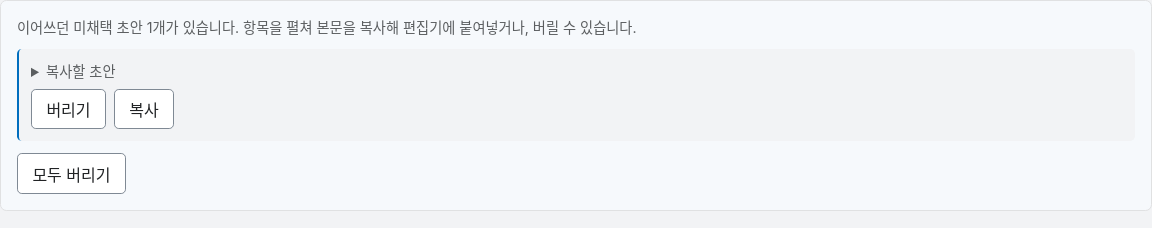
Test case: ScratchRecovery › 복사 버튼이 본문을 클립보드에 넣는다
Expected: the text "이어쓰던 미채택 초안 1개가 있습니다. 항목을 펼쳐 본문을 복사해 편집기에 붙여넣거나, 버릴 수 있습니다." is shown, [17,19,636,36]
Click the button "복사".
click(144, 109)  # box [114,89,174,129]
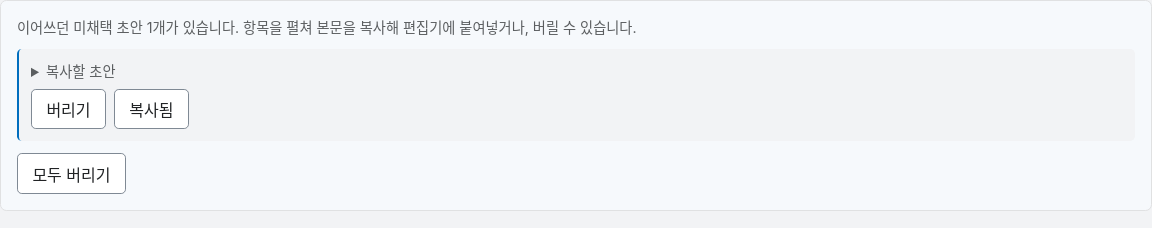
Now the button "복사됨" is shown, box [114,89,189,129]
